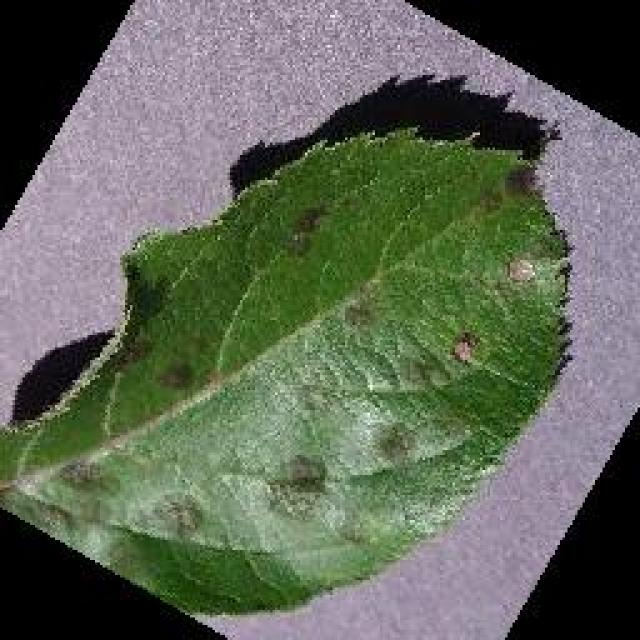apple scab disease: (0, 110, 575, 618)
